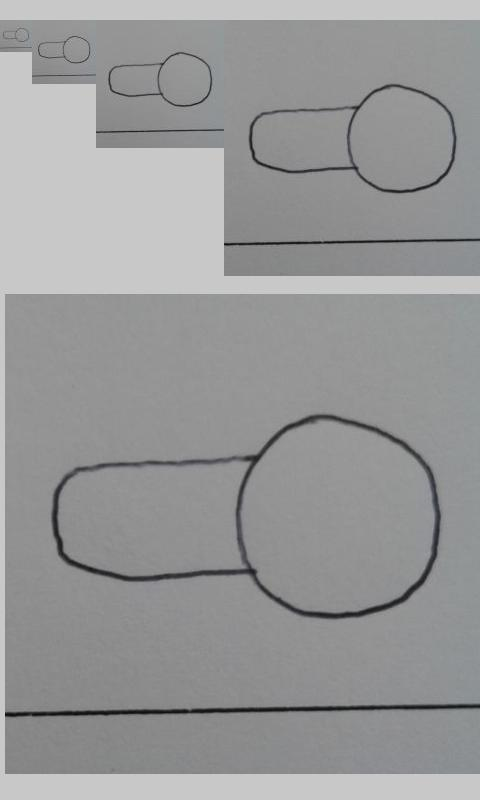switch: (51, 413, 441, 620), (248, 84, 457, 194), (108, 51, 213, 107), (38, 34, 91, 63), (3, 27, 29, 43)
